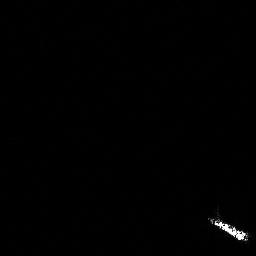ship: (205, 213, 252, 245)
